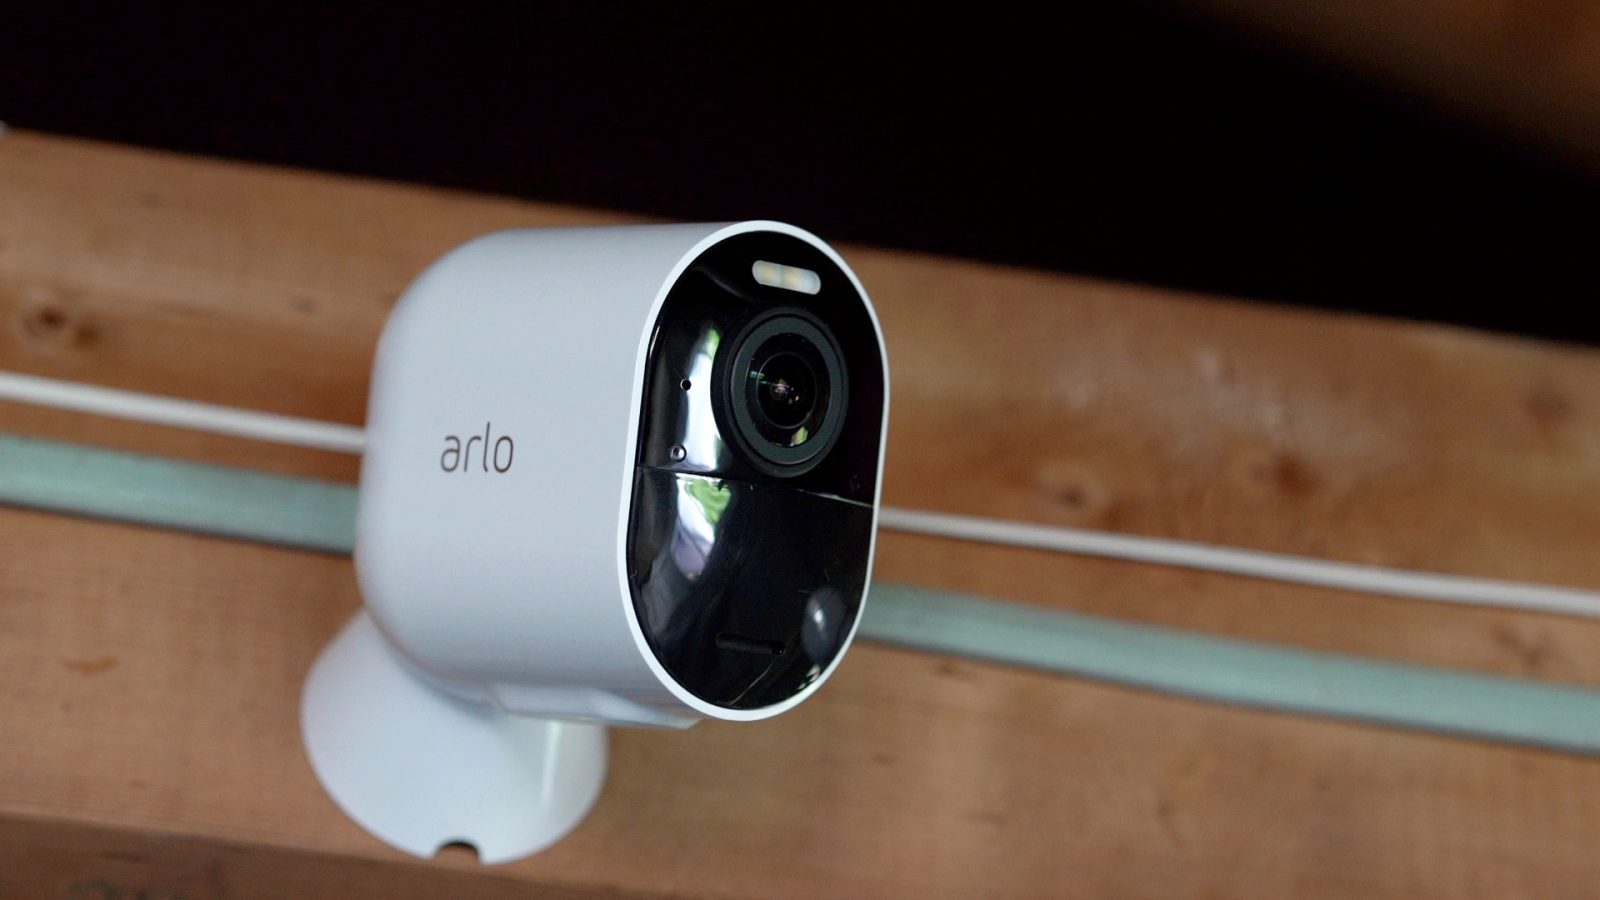Nest Cam: (320, 198, 901, 726)
